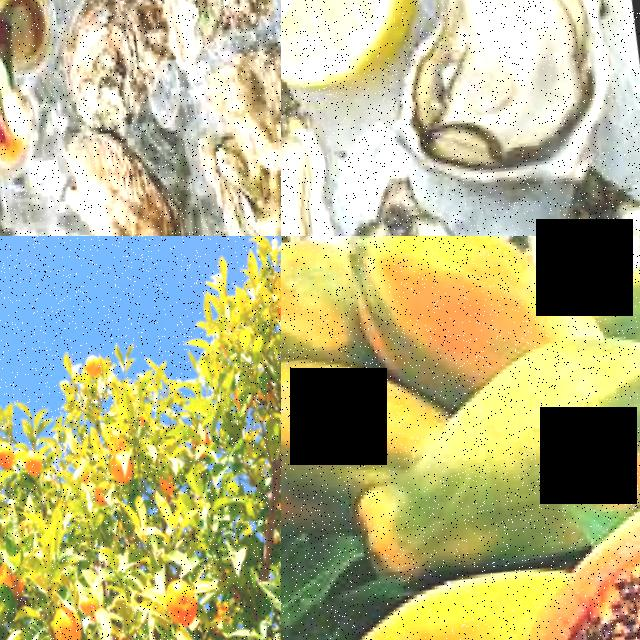lemon: (281, 0, 447, 102)
orange: (167, 561, 212, 619), (55, 592, 98, 640), (27, 438, 54, 474), (0, 428, 24, 465)
oysters: (385, 0, 640, 193), (57, 97, 210, 236), (288, 162, 549, 236), (57, 0, 204, 117), (197, 13, 281, 175), (519, 149, 640, 236), (153, 0, 281, 51)
pawpaw: (415, 279, 640, 532), (333, 236, 575, 393), (281, 328, 382, 561), (296, 552, 533, 640), (469, 536, 640, 640), (281, 236, 382, 386)
